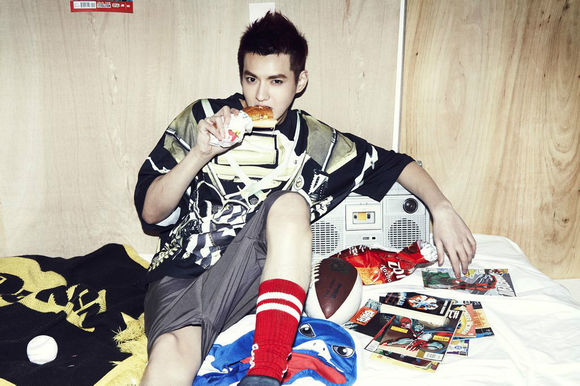face: (236, 51, 296, 119)
